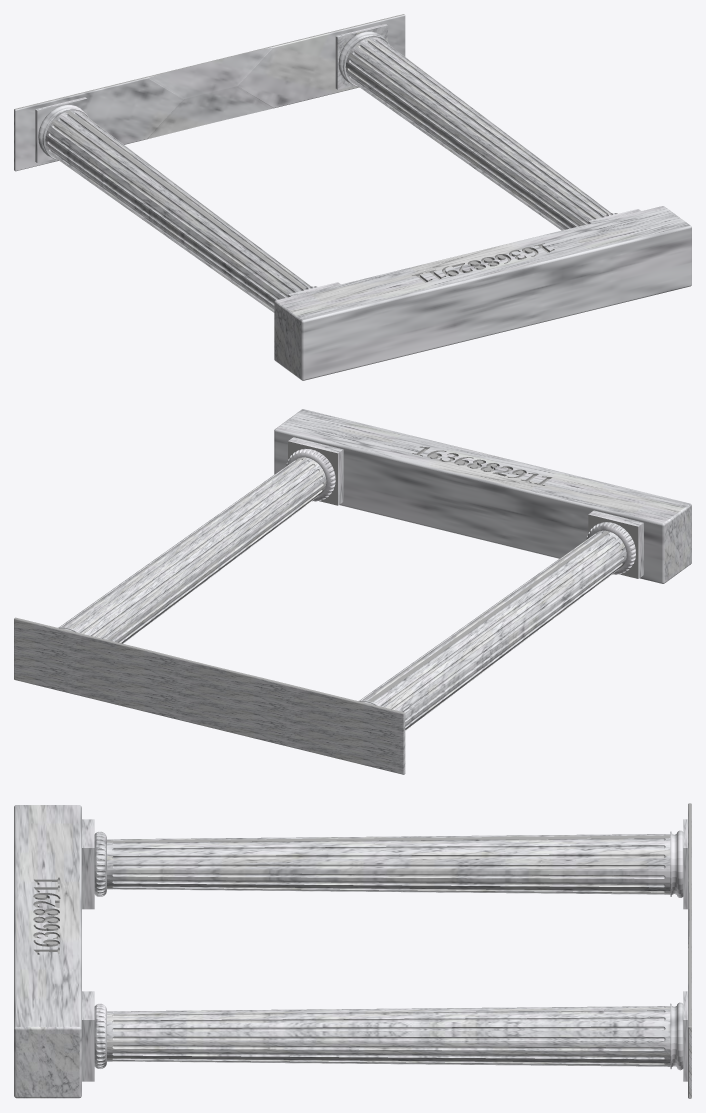
File: door frame v0-0.obj
3 renders of one model, top to bottom at view 1: azimuth 30°, elevation 25°; view 2: azimuth 150°, elevation 25°; view 3: azimuth 270°, elevation 25°, orthographic. The views are drawn at different scales.
Parts seen in each view (by area): view 1: Object.1; view 2: Object.1; view 3: Object.1.
Boxes of the visible parts, x1,y1,x2,y2 form: Object.1: (14,14,691,380); Object.1: (14,409,691,774); Object.1: (14,803,691,1098).
Bounding box in the file's own units: 3900 × 590 × 4995.
Materials: 2 (1 with a texture image).
